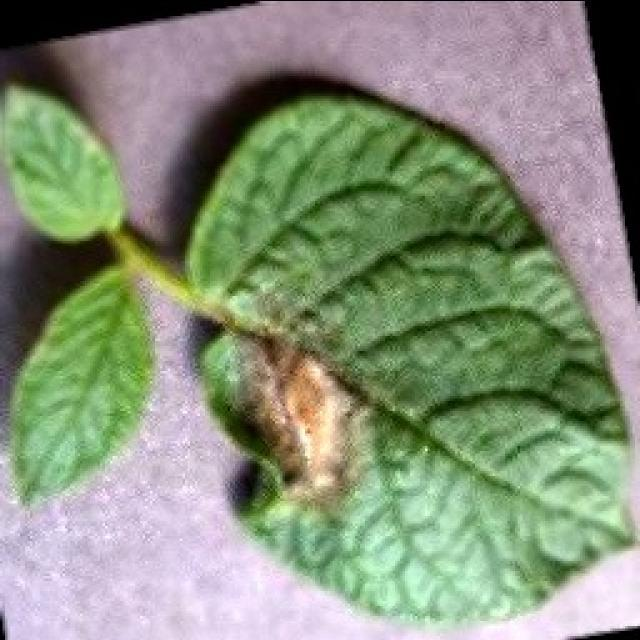leaves: (130, 32, 640, 640), (0, 246, 183, 528), (0, 65, 132, 254)
